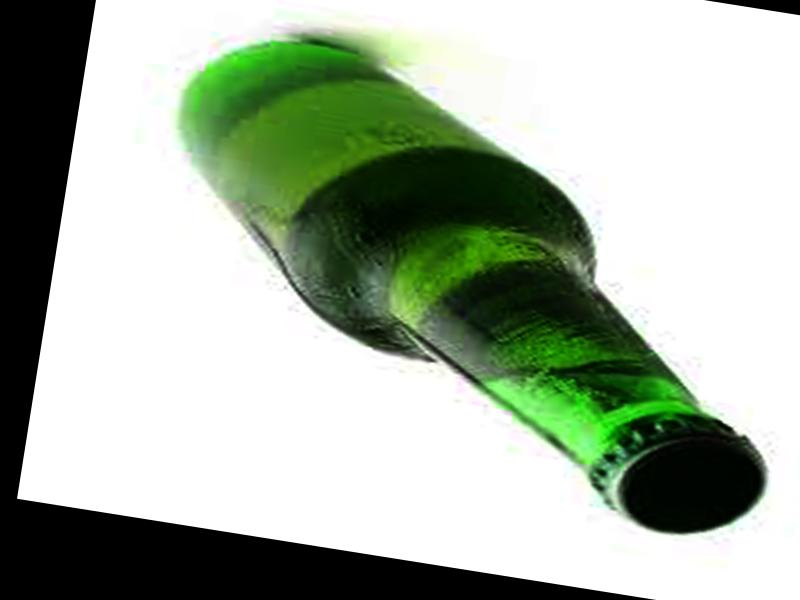Beer: (123, 19, 800, 545)
